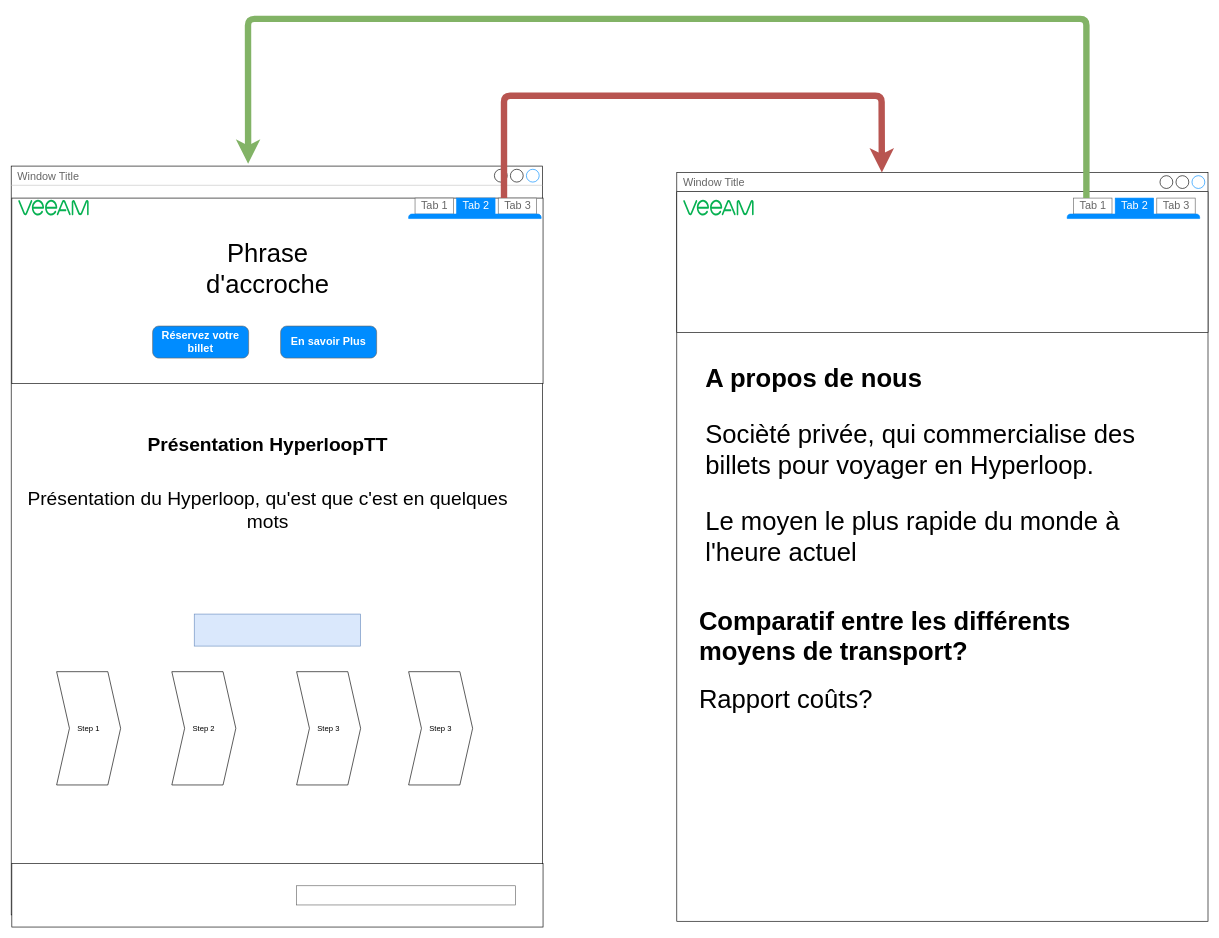
Image size: 1219x938. Some labels were removed from this diagram. Each missing label, with the centre of its shape:
"Histoire" belongs at point 277,629.
"Newsletter / Bon plans" belongs at point 406,895.
